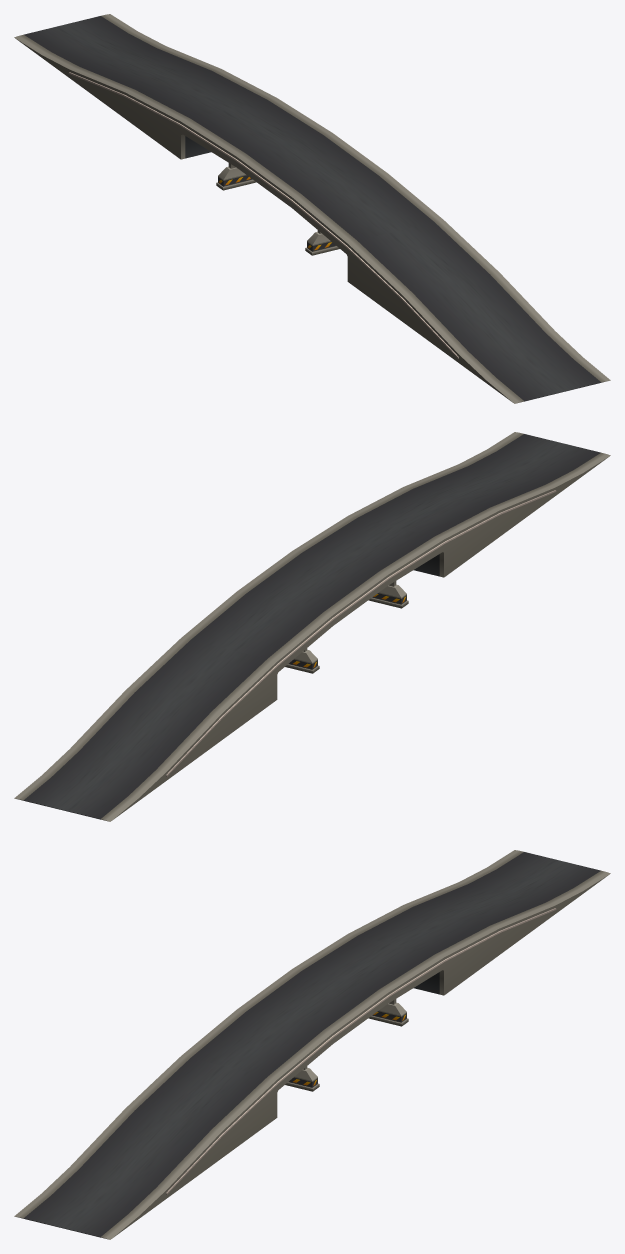
The model's file is Special_1D.glb.
3 renders of one model, top to bottom at view 1: azimuth 30°, elevation 25°; view 2: azimuth 150°, elevation 25°; view 3: azimuth 330°, elevation 25°, orthographic.
Visible parts, largest first — view 1: Special_1D; view 2: Special_1D; view 3: Special_1D.
Boxes of the visible parts, box(x1,y1,x2,y2) form: Special_1D: box(14, 14, 610, 403); Special_1D: box(14, 432, 610, 821); Special_1D: box(14, 850, 610, 1239).
Size of the model in its own units: 20.4 by 8.79 by 180.
Materials: 1 (1 with a texture image).
